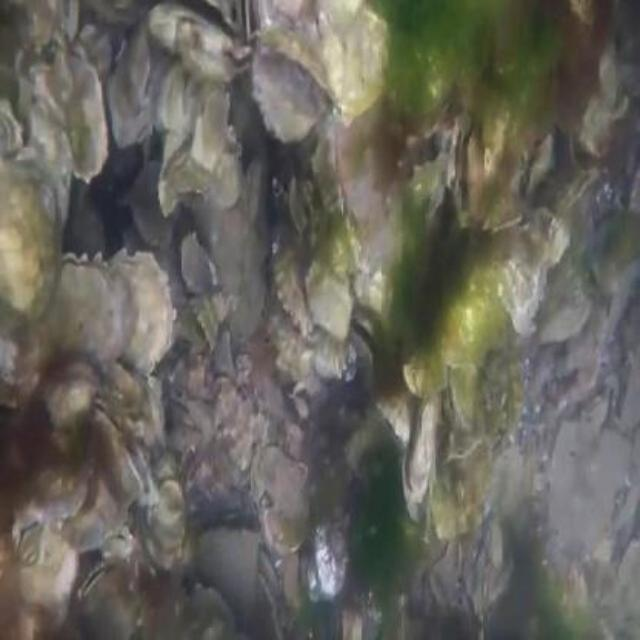Oyster-Closed: (487, 204, 570, 334), (429, 228, 504, 367), (0, 151, 59, 319), (53, 255, 131, 367), (318, 0, 389, 123), (249, 33, 333, 135), (149, 3, 252, 82), (111, 249, 174, 373), (252, 443, 309, 554), (402, 398, 441, 520), (544, 163, 601, 237), (272, 224, 310, 328), (79, 562, 129, 640), (254, 0, 323, 52), (305, 264, 354, 336), (44, 364, 96, 430), (443, 363, 480, 432), (372, 389, 412, 450), (0, 106, 24, 156)
Oyster-Open: (390, 124, 451, 219), (92, 401, 150, 500), (452, 120, 487, 221), (351, 309, 383, 360)
